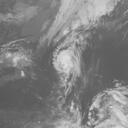cyclone: (52, 32, 80, 77)
